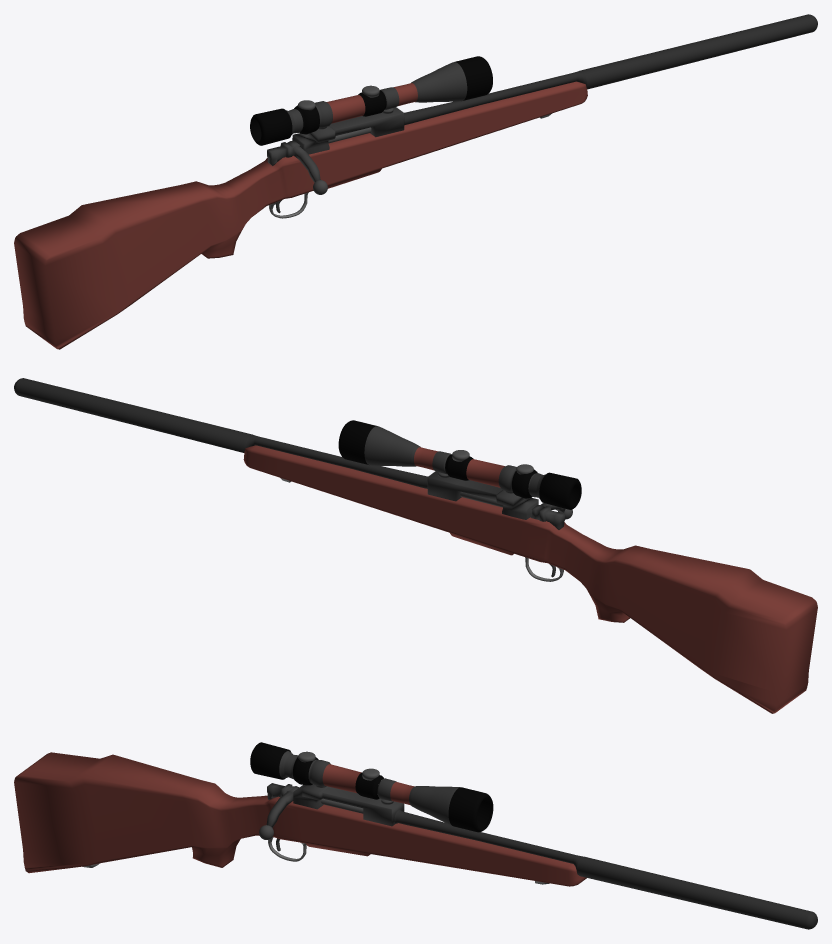
File: Sniper (5).fbx
The picture shows the model from 3 angles, top to bottom: view 1: azimuth 30°, elevation 25°; view 2: azimuth 150°, elevation 25°; view 3: azimuth 330°, elevation 25°; orthographic projection.
Parts seen in each view (by area): view 1: Cube, Cylinder.004, Cylinder, Cube.001, Cube.002; view 2: Cube, Cylinder.004, Cylinder, Cube.001, Cube.002; view 3: Cube, Cylinder.004, Cylinder, Cube.001, Cube.002.
Boxes of the visible parts, x1,y1,x2,y2 form: Cube: (14,81,587,349); Cylinder.004: (250,56,492,145); Cylinder: (404,14,817,125); Cube.001: (292,107,404,154); Cube.002: (267,141,320,182); Cube: (243,445,817,713); Cylinder.004: (338,420,581,509); Cylinder: (14,378,427,488); Cube.001: (427,471,538,519); Cube.002: (530,503,565,529); Cube: (14,752,586,886); Cylinder.004: (250,742,493,832); Cylinder: (394,809,817,929); Cube.001: (293,784,404,826); Cube.002: (266,783,298,827).
Size of the model in its own units: 132 by 28.04 by 13.53.
